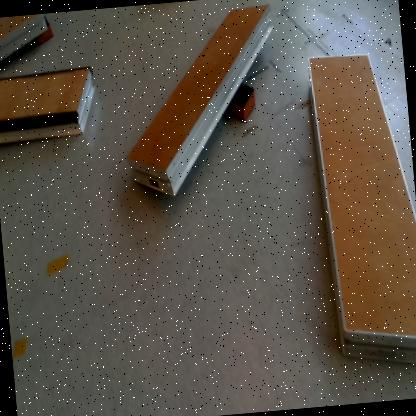Stairs: (309, 57, 416, 370), (128, 5, 276, 194), (1, 71, 97, 147), (1, 15, 48, 65)
